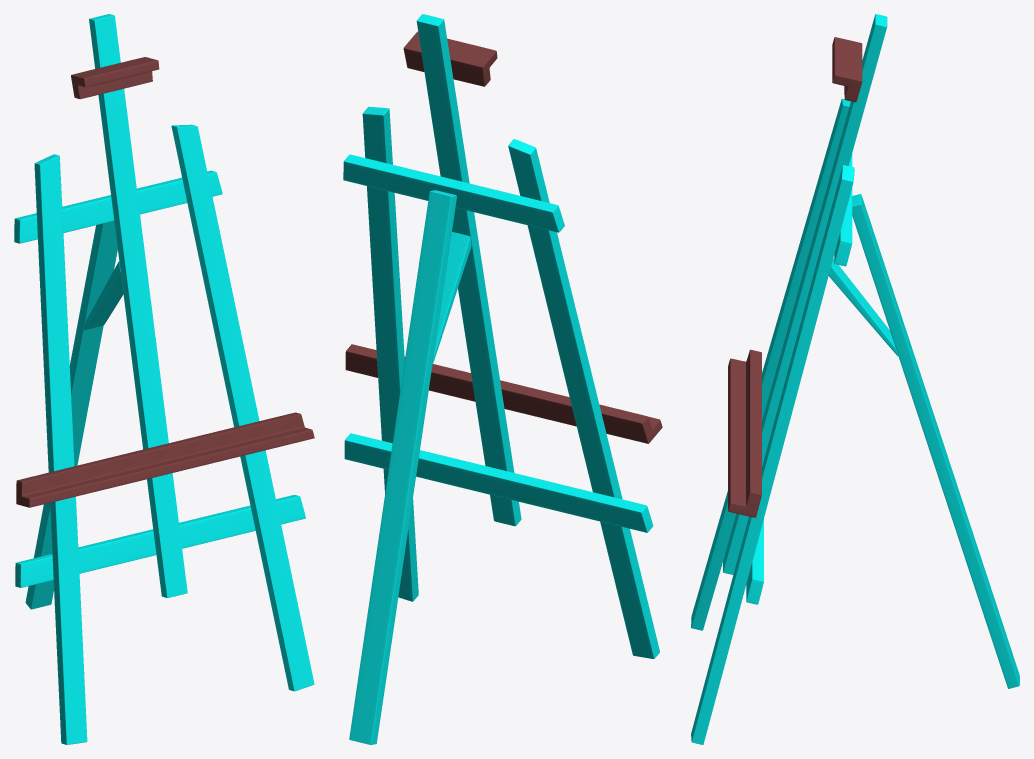
The model's file is CanvasStand.fbx.
3 views of the same model, side by side, from view 1: azimuth 30°, elevation 25°; view 2: azimuth 150°, elevation 25°; view 3: azimuth 270°, elevation 25° (orthographic). The views are drawn at different scales.
Parts seen in each view (by area): view 1: CanvasStand_High (×2); view 2: CanvasStand_High (×2); view 3: CanvasStand_High (×2).
Boxes of the visible parts, x1,y1,x2,y2 form: CanvasStand_High (×2): (14,14,314,744); CanvasStand_High (×2): (343,14,662,744); CanvasStand_High (×2): (691,14,1019,744).
Bounding box in the file's own units: 2.51 × 5.35 × 2.39.
